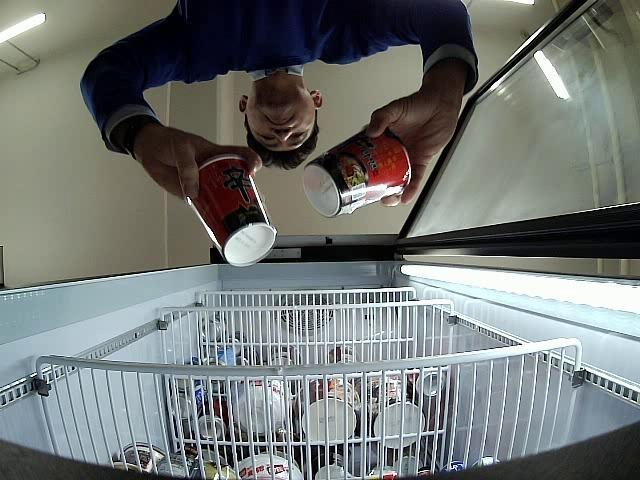02_shinRamen_S: (187, 156, 277, 267), (302, 128, 410, 218)
